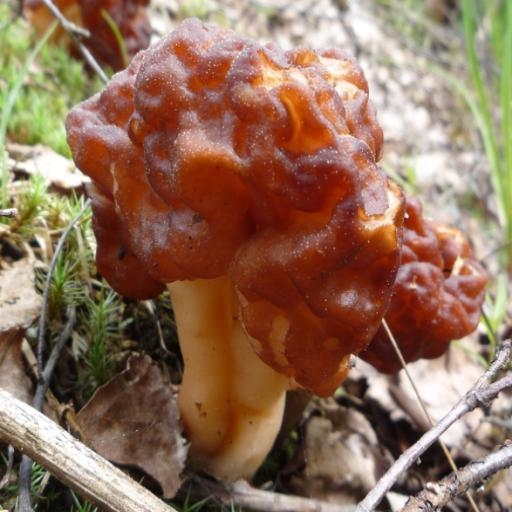mushroom: (3, 0, 511, 485)
